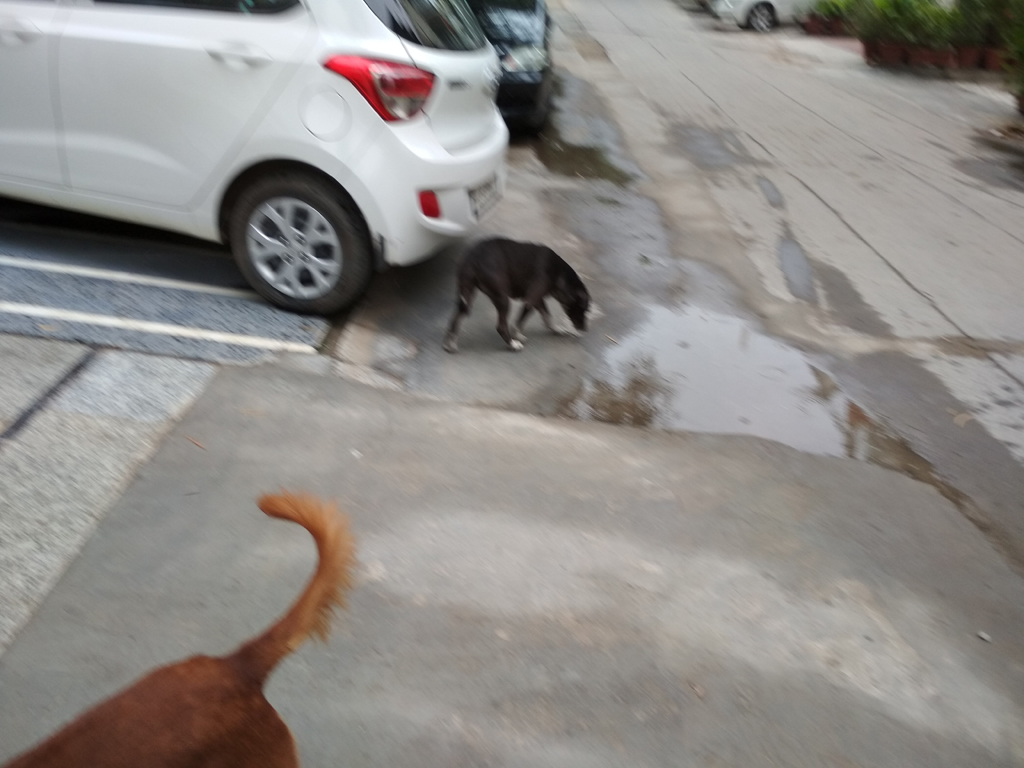dog: (1, 488, 354, 768), (440, 235, 588, 354)
